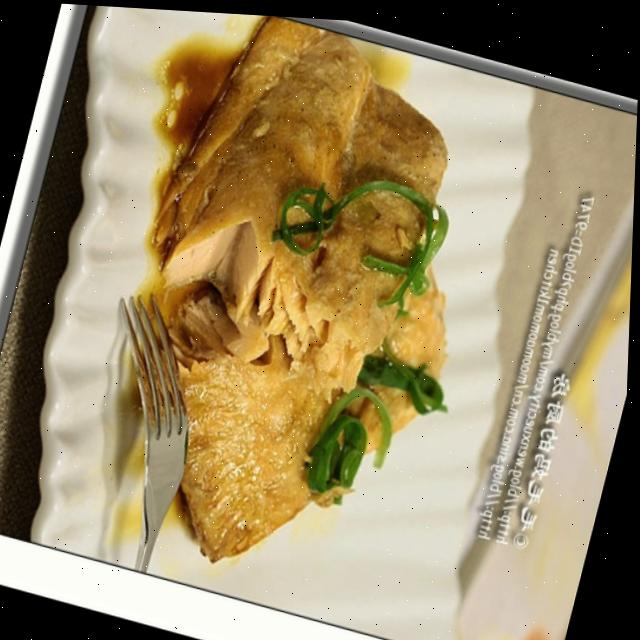熟制海鲜: (48, 3, 554, 620)
